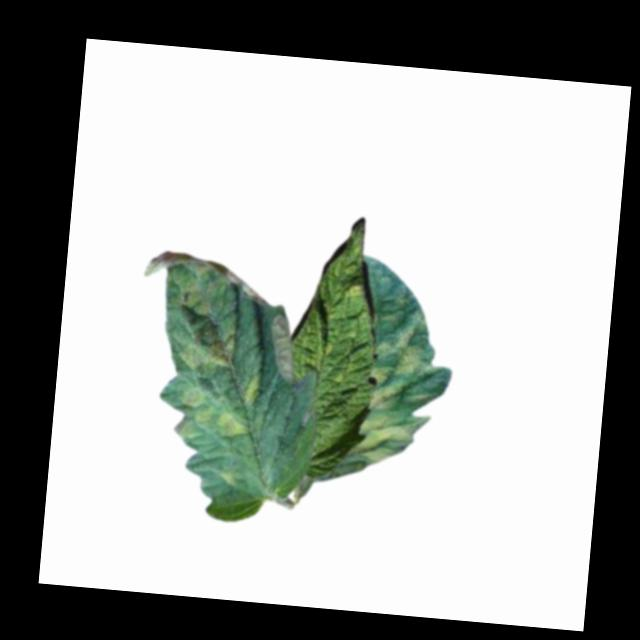Leaf_Mold: (153, 267, 270, 445), (355, 307, 438, 469), (335, 272, 365, 299)
